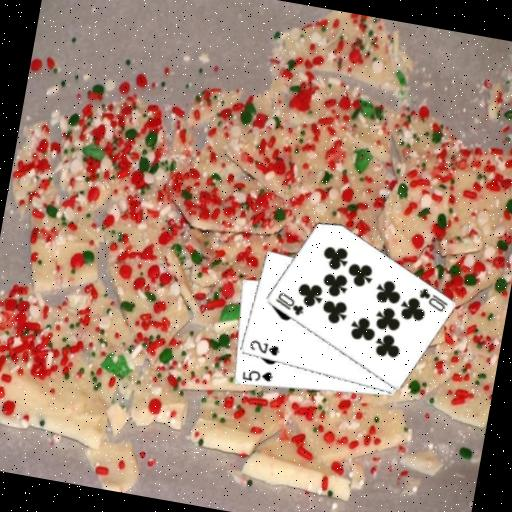10C: (413, 283, 452, 314), (270, 287, 308, 318)
2S: (246, 336, 282, 358)
5S: (238, 364, 274, 386)
